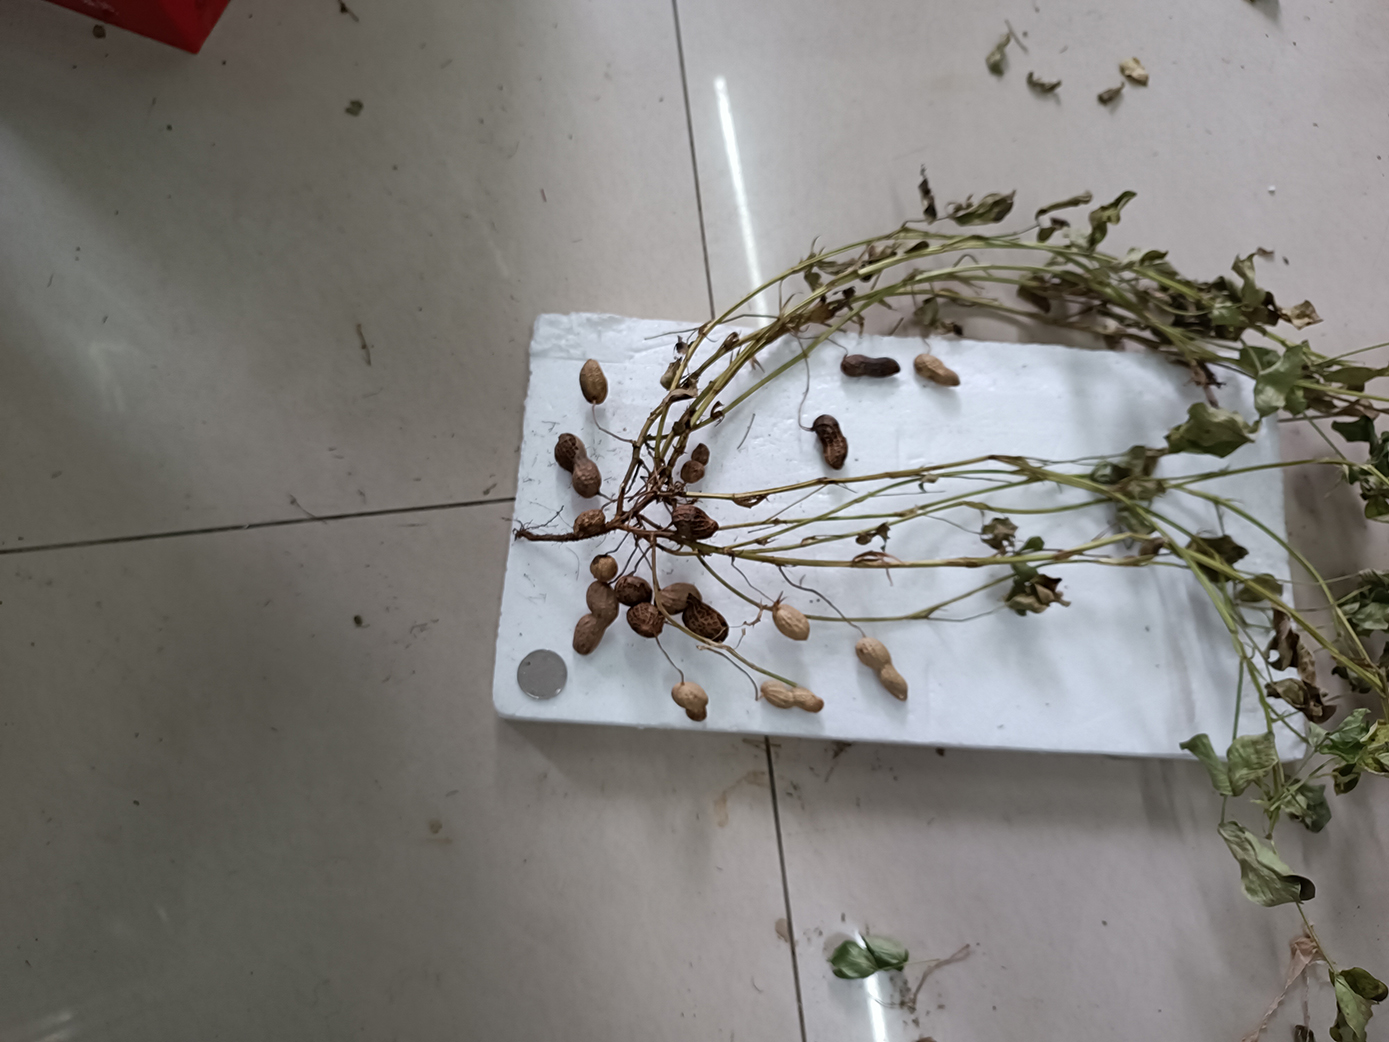h: (572, 580, 620, 656), (856, 636, 908, 702), (761, 679, 825, 713), (914, 354, 962, 387), (671, 681, 709, 722), (772, 604, 810, 641), (579, 359, 607, 405), (589, 554, 618, 580)
l: (653, 582, 729, 642), (554, 432, 602, 499), (614, 574, 663, 638), (812, 414, 848, 471), (671, 505, 719, 539), (840, 354, 901, 378), (680, 442, 710, 484), (572, 509, 606, 534)
